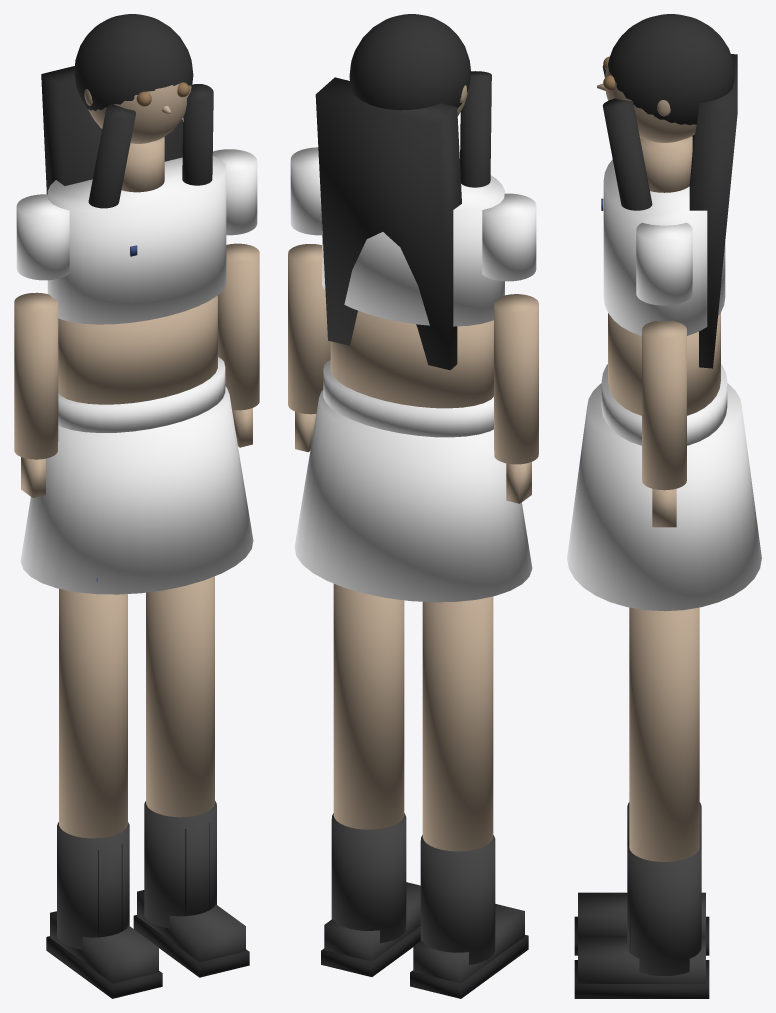
The model's file is GemK.glb.
The picture shows the model from 3 angles, left to right: view 1: azimuth 30°, elevation 25°; view 2: azimuth 150°, elevation 25°; view 3: azimuth 270°, elevation 25°; orthographic projection. The views are drawn at different scales.
Visible parts, largest first — view 1: GemK_Model; view 2: GemK_Model; view 3: GemK_Model.
Boxes of the visible parts, bbox=[...] form: GemK_Model: bbox=[14, 14, 259, 998]; GemK_Model: bbox=[288, 14, 538, 998]; GemK_Model: bbox=[567, 14, 761, 998].
Size of the model in its own units: 0.44 by 1.63 by 0.3042.
